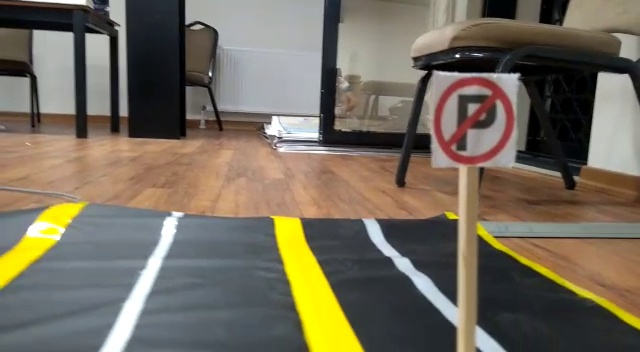park_yapilmaz: (429, 74, 516, 166)
